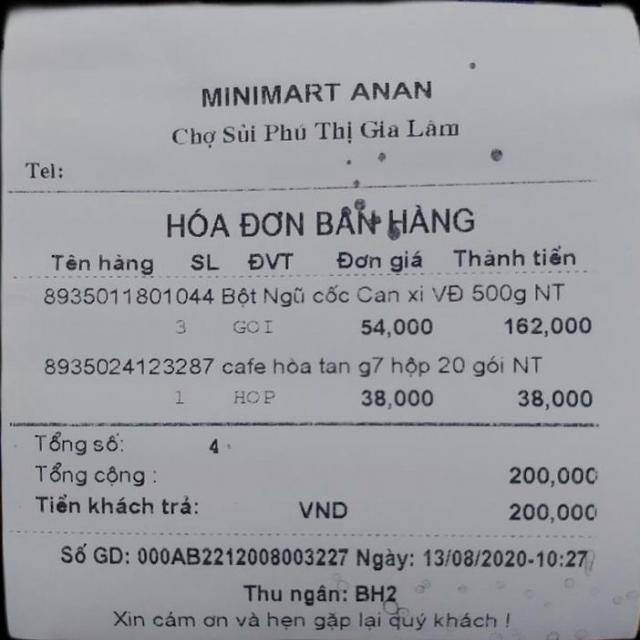Date: (420, 544, 530, 574)
Store_Name: (147, 57, 454, 111)
amount_number: (498, 458, 614, 495)
label_total: (35, 458, 155, 492)
